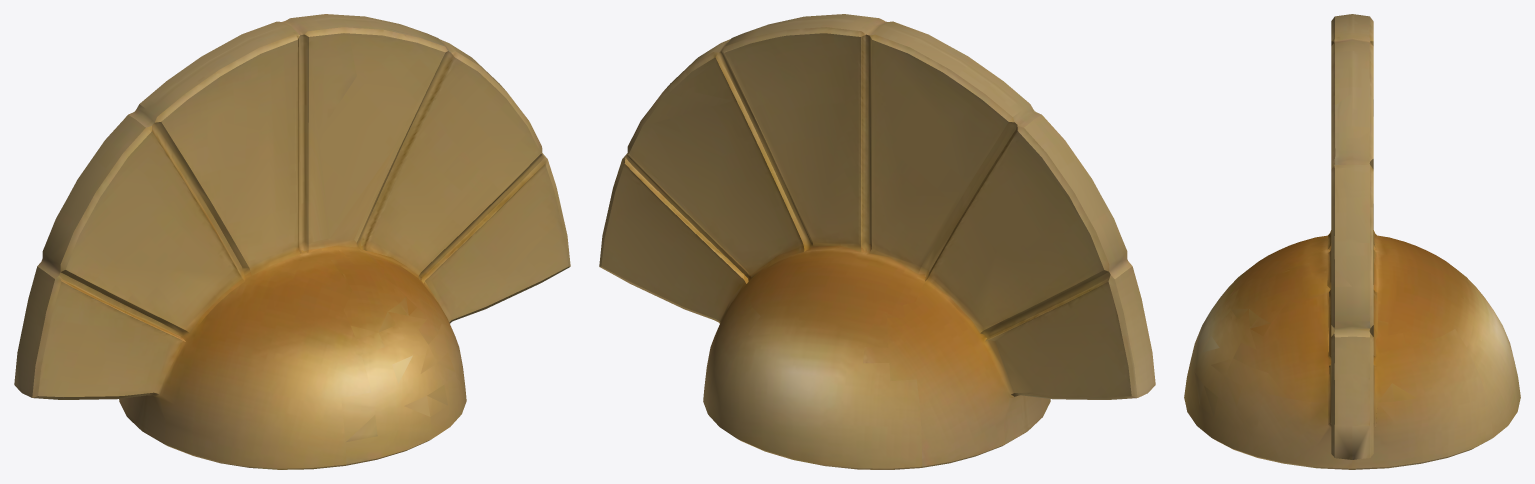
The model's file is casque_kusco.glb.
The picture shows the model from 3 angles, left to right: view 1: azimuth 30°, elevation 25°; view 2: azimuth 150°, elevation 25°; view 3: azimuth 270°, elevation 25°; orthographic projection. The views are drawn at different scales.
Parts seen in each view (by area): view 1: LOD0; view 2: LOD0; view 3: LOD0.
Boxes of the visible parts, left/top/right/bottom form: LOD0: left=14, top=14, right=570, bottom=469; LOD0: left=599, top=14, right=1155, bottom=469; LOD0: left=1184, top=14, right=1520, bottom=469.
Size of what is drawn, in the model's own units: 1.11 by 0.7326 by 0.6163.
1 material, 1 textured.
